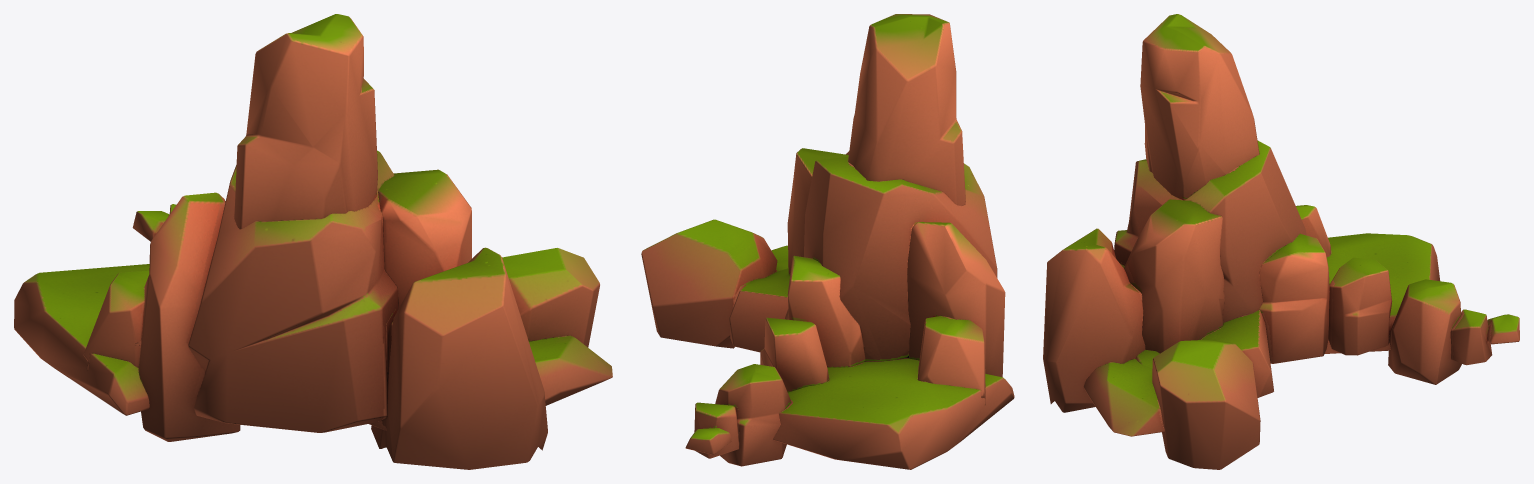
The model's file is RockFountainLight.fbx.
3 views of the same model, side by side, from view 1: azimuth 30°, elevation 25°; view 2: azimuth 150°, elevation 25°; view 3: azimuth 270°, elevation 25° (orthographic). The views are drawn at different scales.
Visible parts, largest first — view 1: RockFountainLight_low.002; view 2: RockFountainLight_low.002; view 3: RockFountainLight_low.002.
Part boxes in pixels (x1=…): RockFountainLight_low.002: x1=14, y1=14, x2=612, y2=469; RockFountainLight_low.002: x1=641, y1=14, x2=1014, y2=469; RockFountainLight_low.002: x1=1043, y1=14, x2=1519, y2=469.
Size of the model in its own units: 1000 by 880 by 1134.
